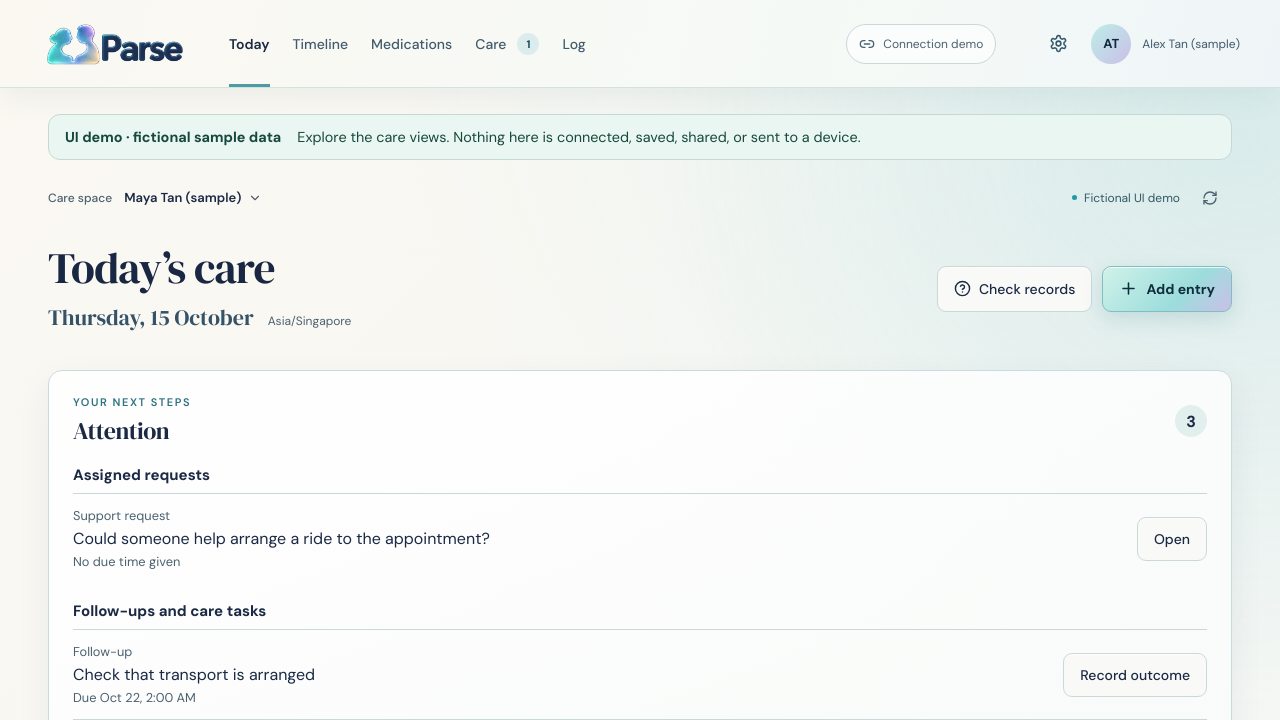
Test: keeps a shared-summary URL inside the fictional dashboard
Click the button "Timeline" at (320, 44), box left=292, top=0, right=348, bottom=87
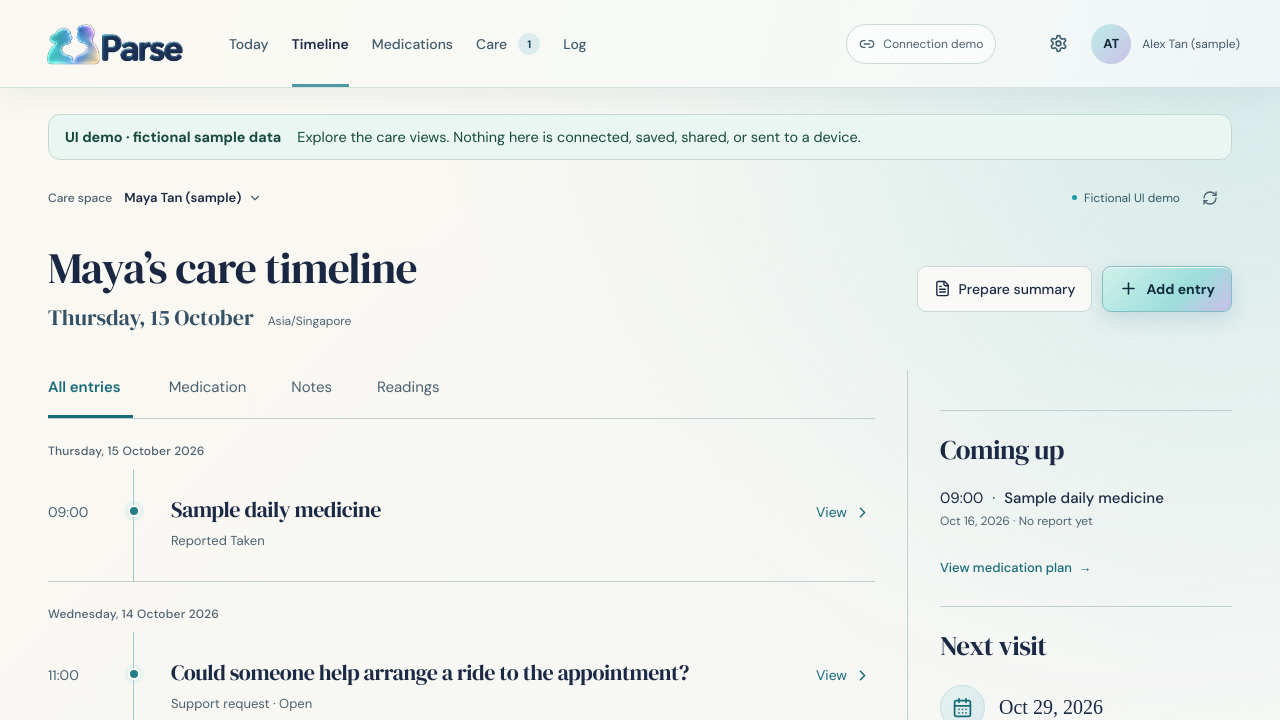
Expected: the text "UI demo · fictional sample data" is shown, left=65, top=128, right=281, bottom=146
Now the heading "Maya’s care timeline" is shown, box left=48, top=244, right=417, bottom=293
